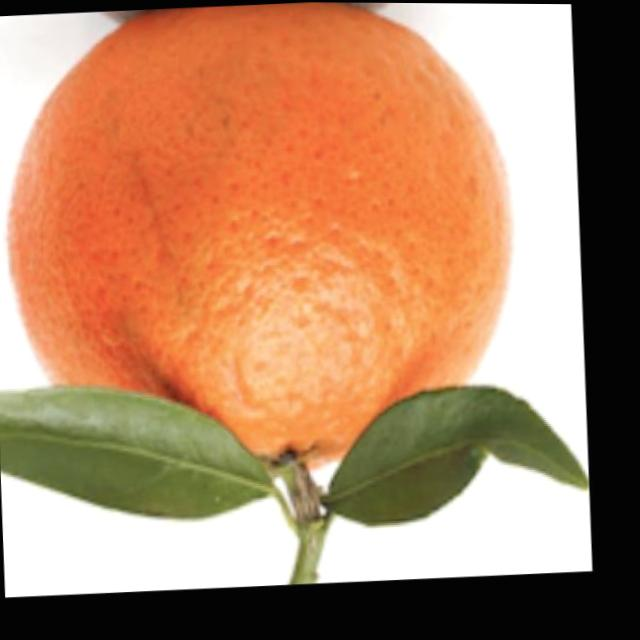Orange: (0, 0, 530, 490)
